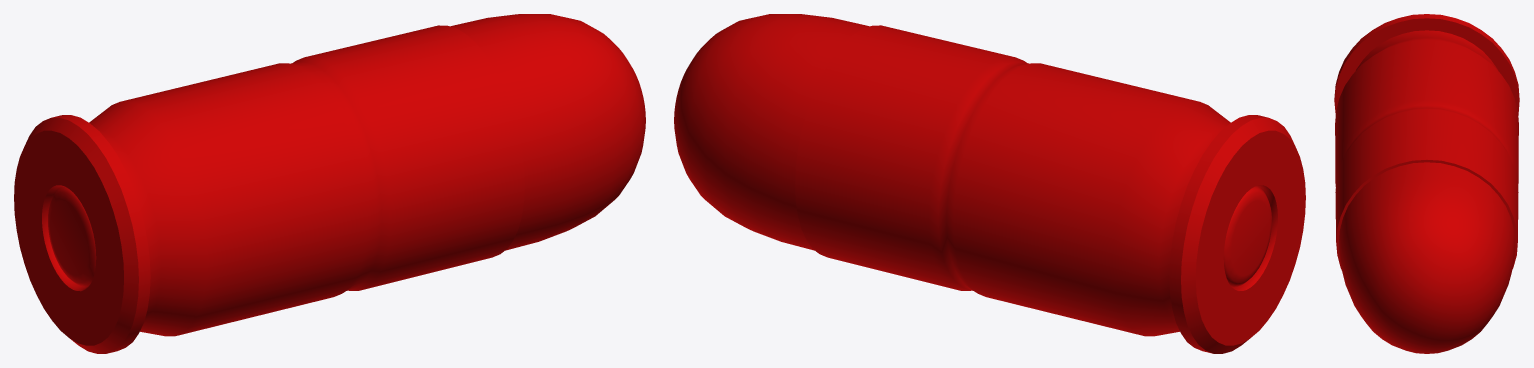
Rendered from bullet.FBX.
3 views of the same model, side by side, from view 1: azimuth 30°, elevation 25°; view 2: azimuth 150°, elevation 25°; view 3: azimuth 270°, elevation 25° (orthographic). The views are drawn at different scales.
Parts seen in each view (by area): view 1: Back_part2_Low; view 2: Back_part2_Low; view 3: Back_part2_Low.
Boxes of the visible parts, x1=… form: Back_part2_Low: x1=14, y1=14, x2=645, y2=353; Back_part2_Low: x1=674, y1=14, x2=1305, y2=353; Back_part2_Low: x1=1334, y1=14, x2=1519, y2=353.
Bounding box in the file's own units: 3.24 × 1.21 × 1.21.
